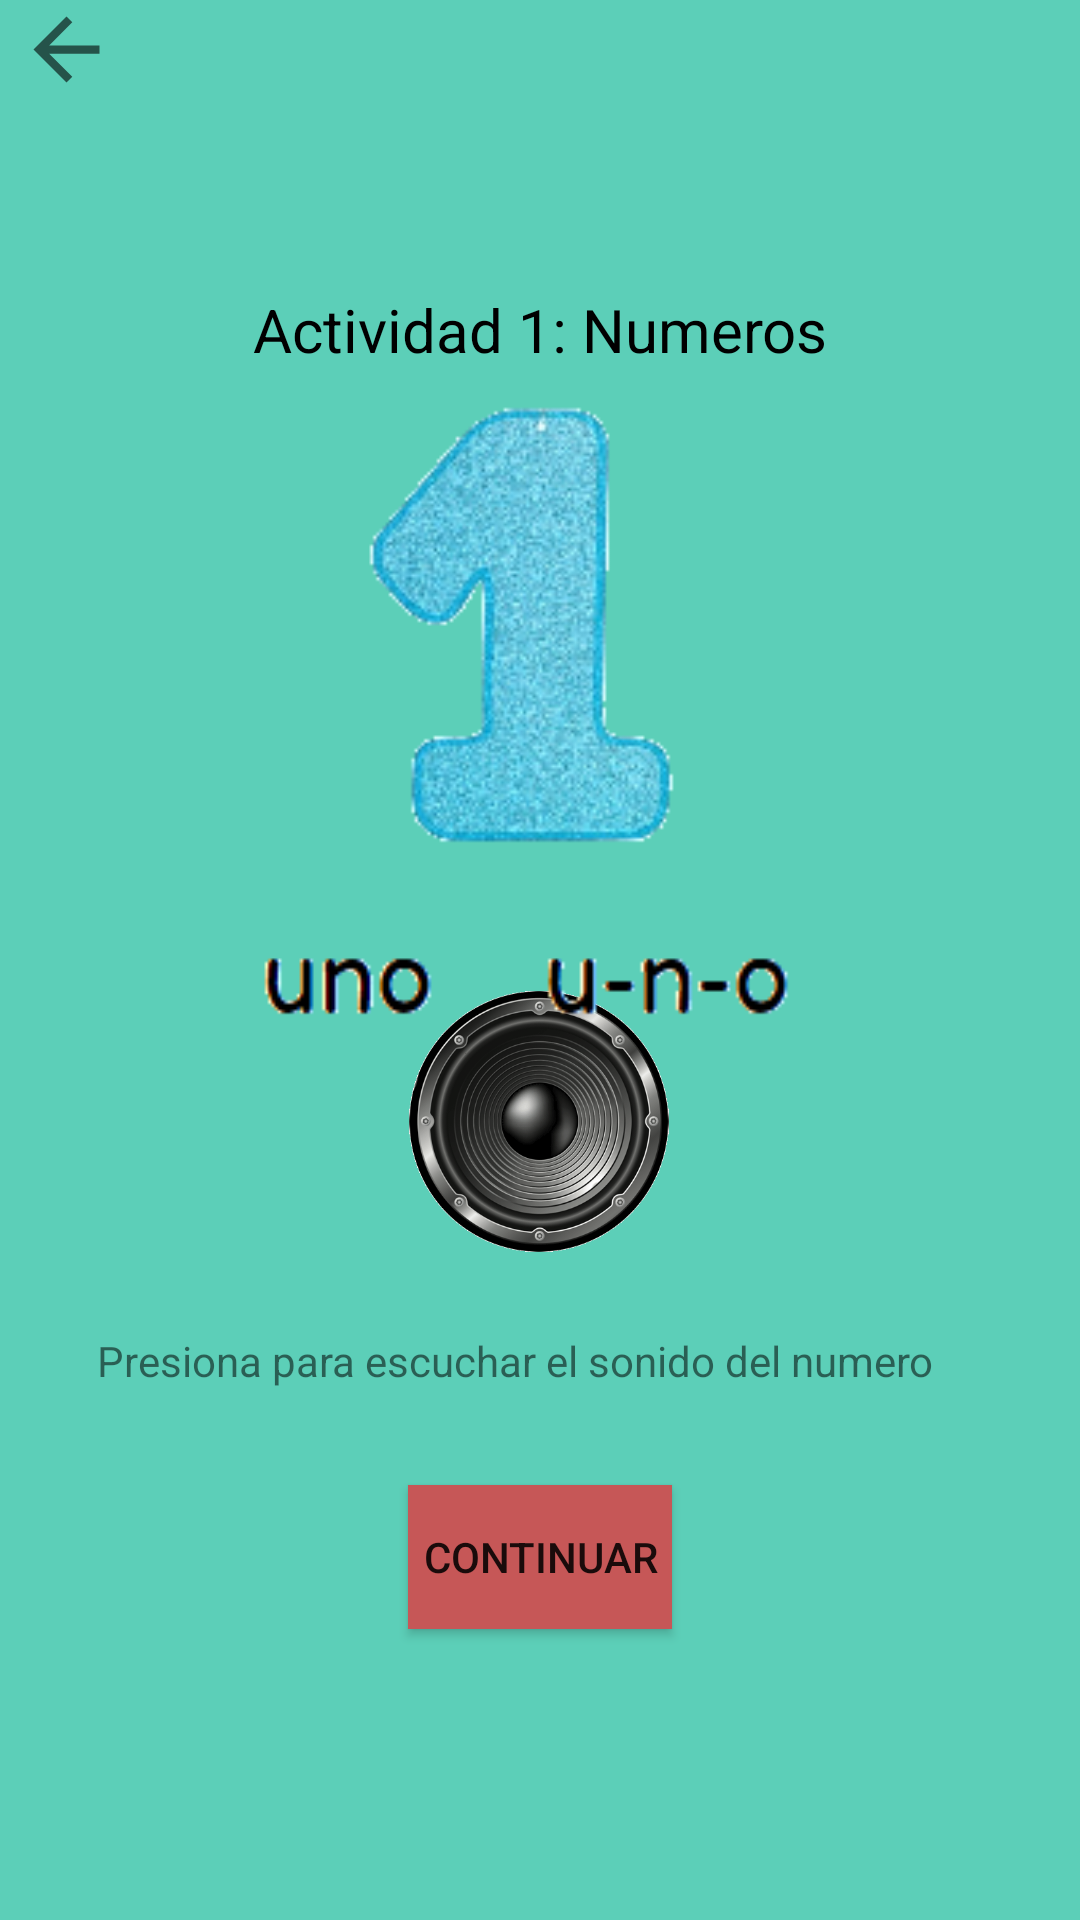

Icon click points for this 1080px x 1920px phone screenshot, format (x,y):
bocina: (536,1114)
